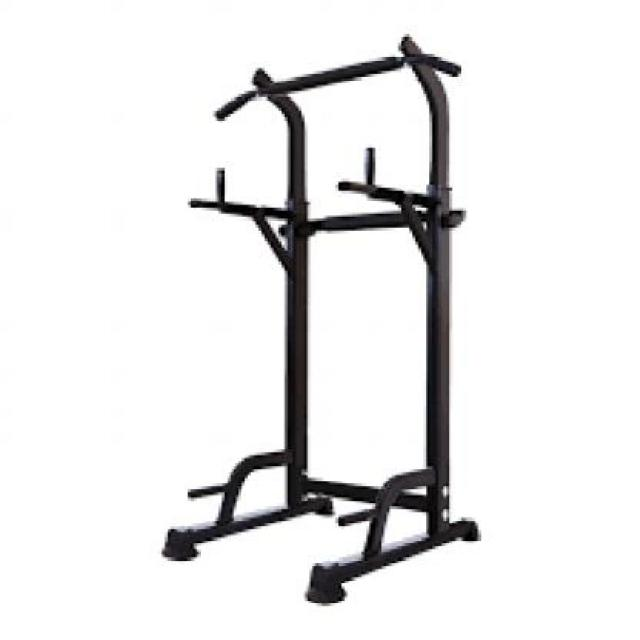chinning dipping: (162, 34, 482, 606)
